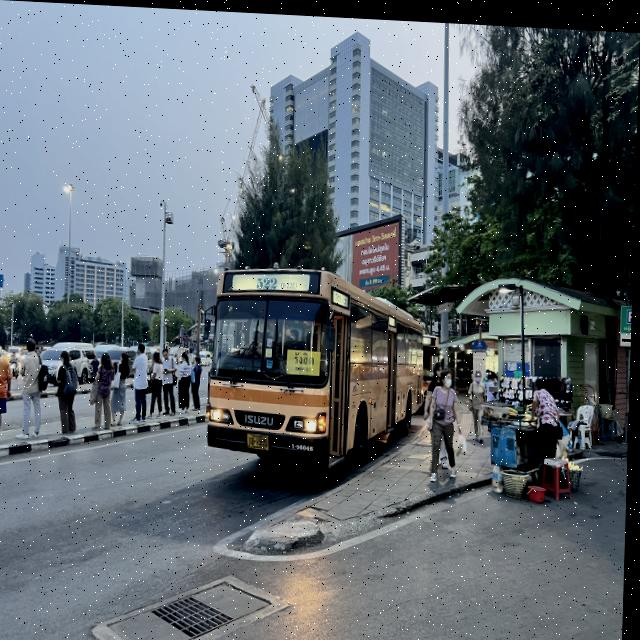BMTA-bus: (203, 250, 430, 489)
Bus Line Number: (255, 272, 303, 290)
Bus Side Number: (291, 438, 318, 450)
Destination Sign: (289, 348, 322, 373)
